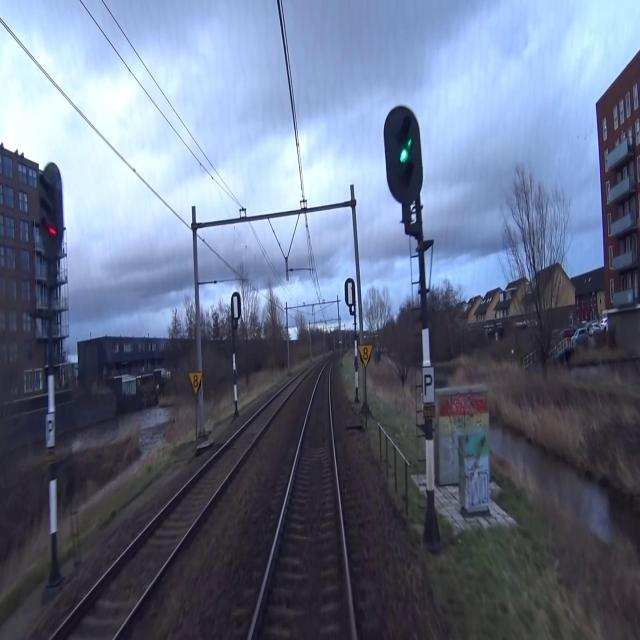rail-track: (55, 378, 298, 639), (252, 363, 351, 639)
